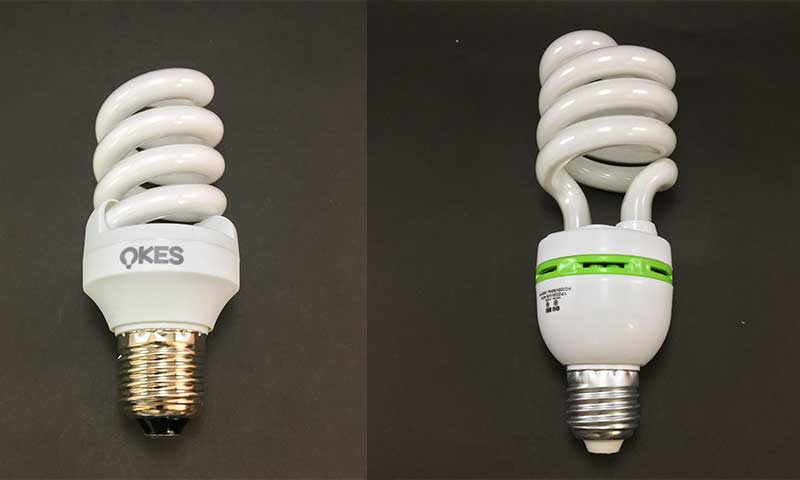Light_bulb: (68, 58, 251, 457), (527, 19, 680, 465)
